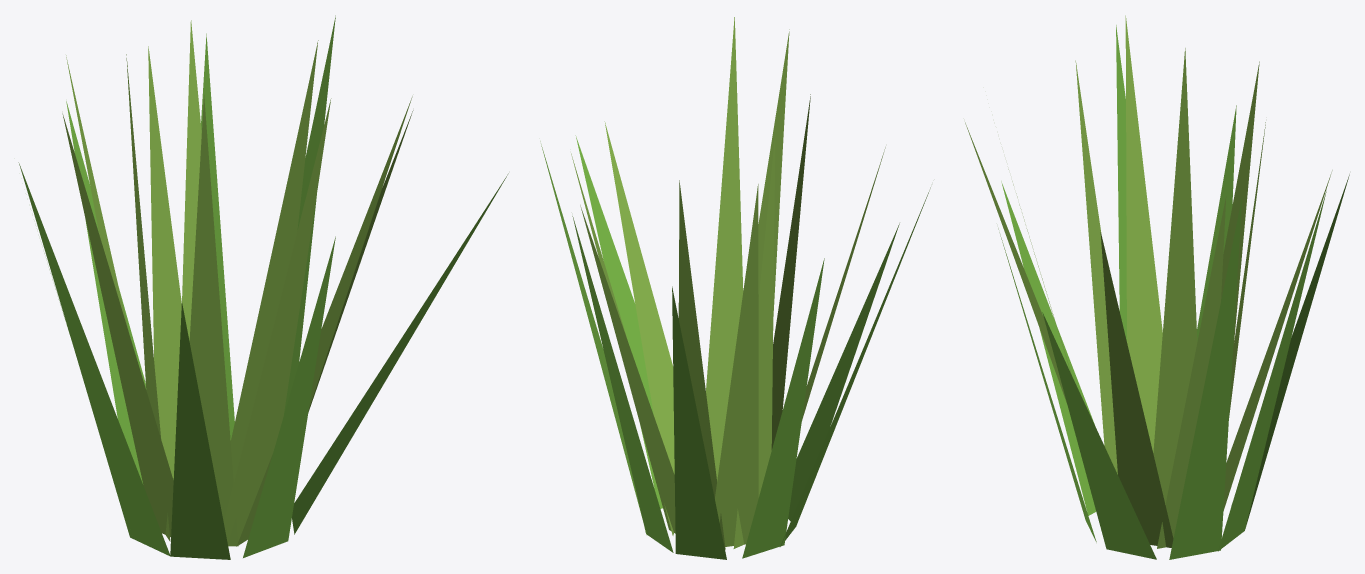
The model's file is tall_grass.obj.
The picture shows the model from 3 angles, left to right: view 1: azimuth 30°, elevation 25°; view 2: azimuth 150°, elevation 25°; view 3: azimuth 270°, elevation 25°; orthographic projection. The views are drawn at different scales.
Parts seen in each view (by area): view 1: grass; view 2: grass; view 3: grass.
Part boxes in pixels (box(x1,y1,x2,y2)): grass: box(18, 15, 508, 559); grass: box(540, 17, 930, 559); grass: box(965, 15, 1349, 559).
Size of the model in its own units: 0.5132 by 0.5368 by 0.4119.
